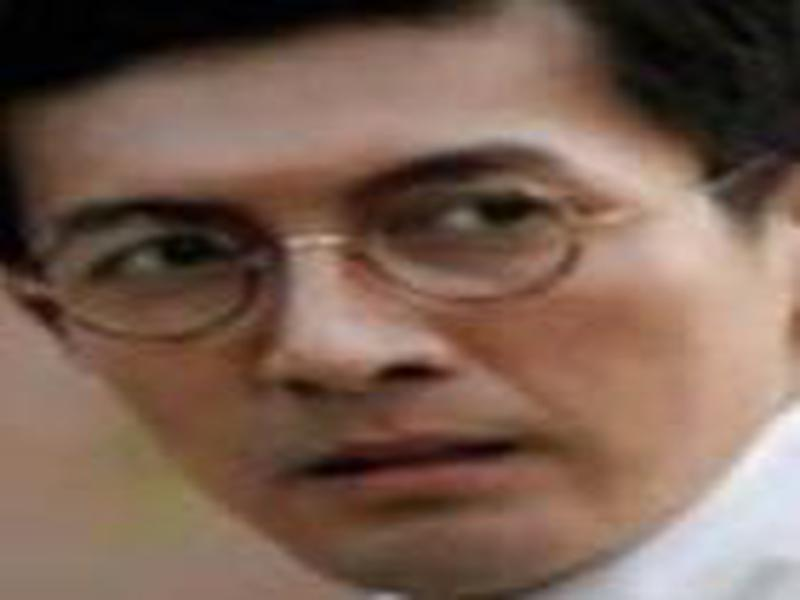without_mask: (6, 68, 710, 599)
